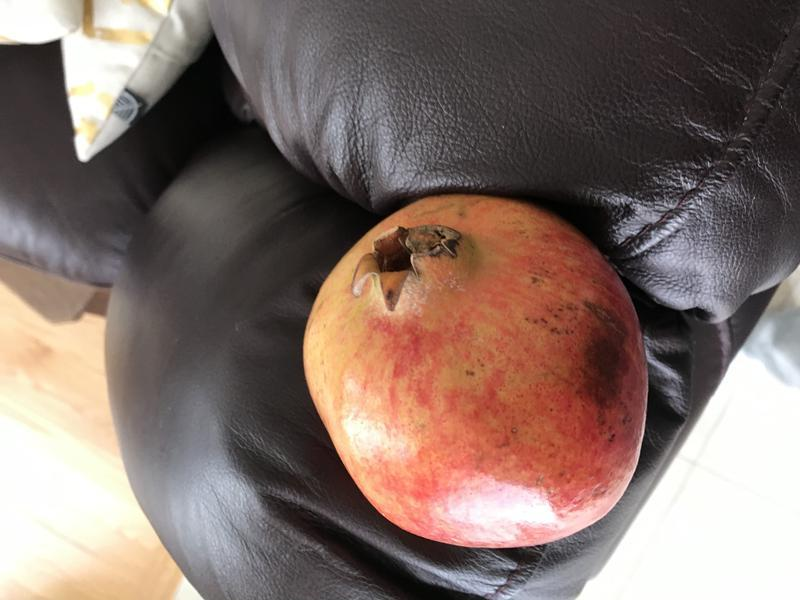pomegranate: (282, 173, 661, 562)
